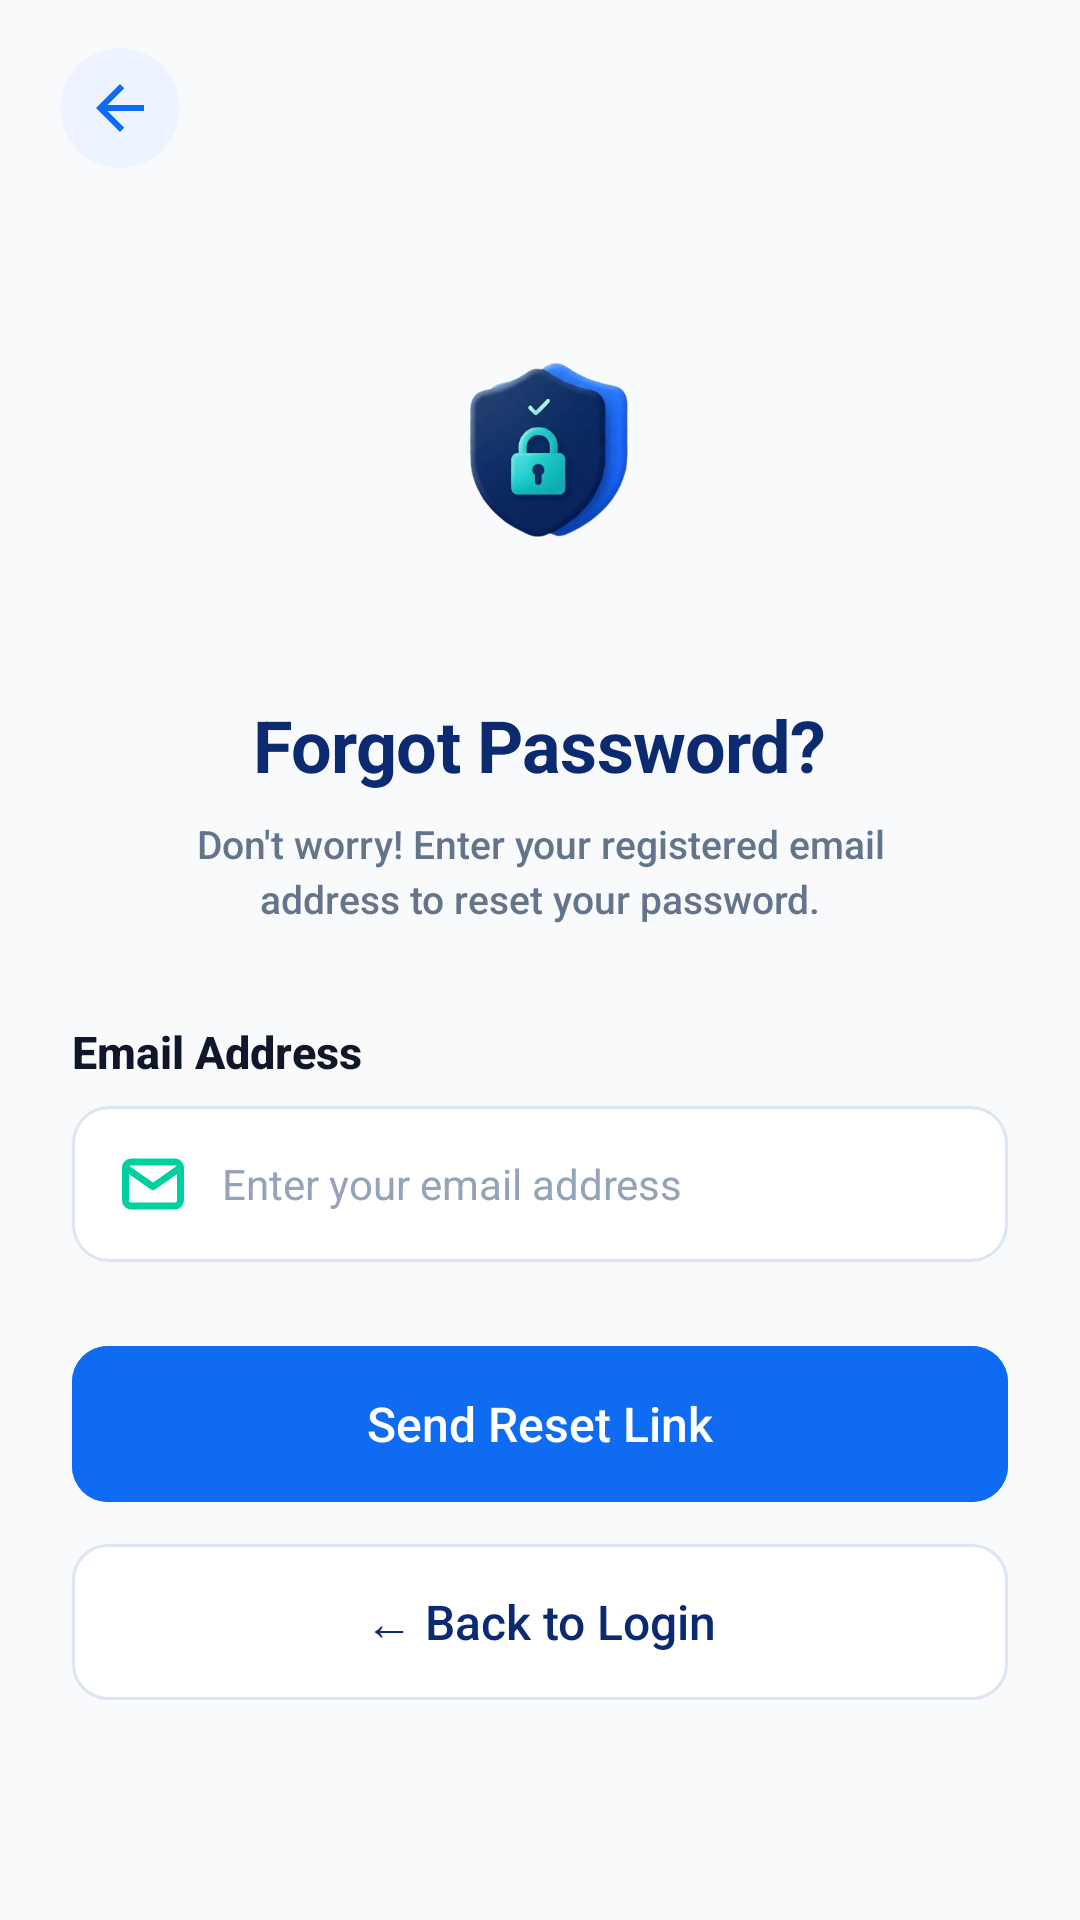

Named icons in this screenshot (1080 × 1920) and their bounding boxes, (x1, y1, x2, y2):
Back: (60, 48, 180, 168)
